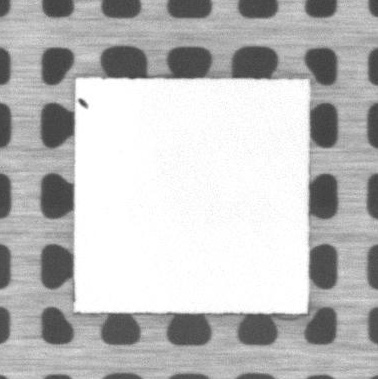DIE_INK: (78, 96, 90, 111)
